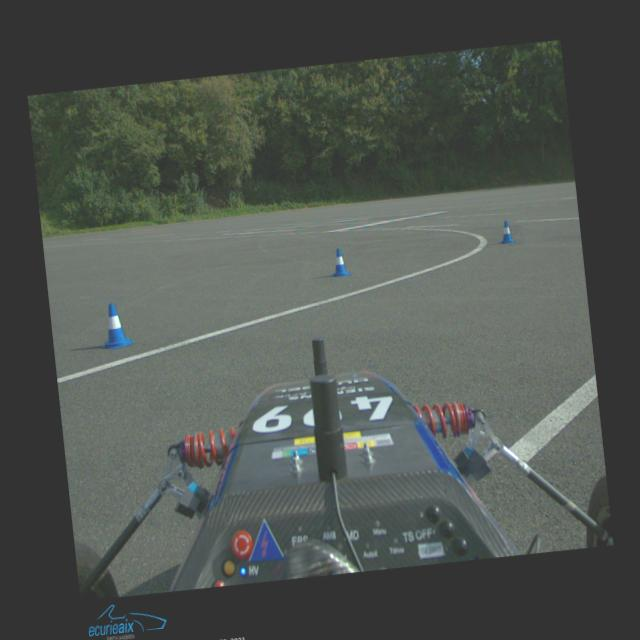blue_cone: (97, 301, 135, 350), (328, 246, 351, 276), (498, 220, 514, 242)
